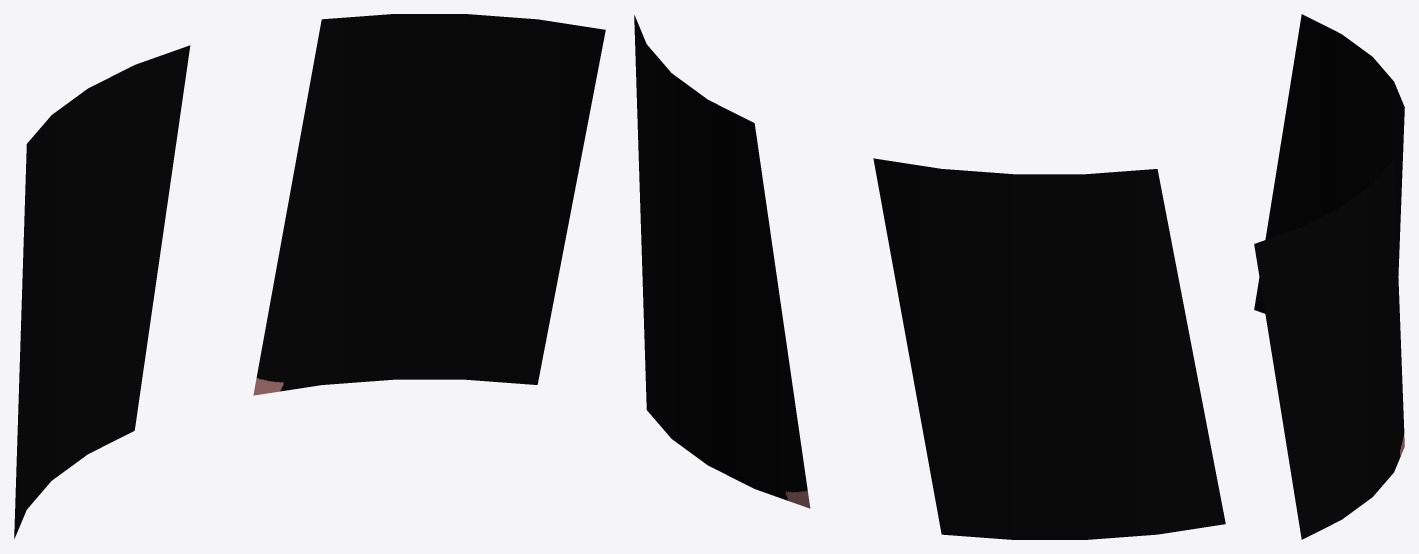
Rendered from 07-Relieved-Face-eyes.glb.
3 views of the same model, side by side, from view 1: azimuth 30°, elevation 25°; view 2: azimuth 150°, elevation 25°; view 3: azimuth 270°, elevation 25° (orthographic). The views are drawn at different scales.
Visible parts, largest first — view 1: 07-Relieved-Face-eyes; view 2: 07-Relieved-Face-eyes; view 3: 07-Relieved-Face-eyes.
Boxes of the visible parts, bbox=[...] form: 07-Relieved-Face-eyes: bbox=[14, 14, 605, 538]; 07-Relieved-Face-eyes: bbox=[634, 15, 1225, 539]; 07-Relieved-Face-eyes: bbox=[1254, 14, 1404, 539].
Bounding box in the file's own units: 1.05 × 0.6222 × 0.2717.
Materials: 1 (1 with a texture image).
